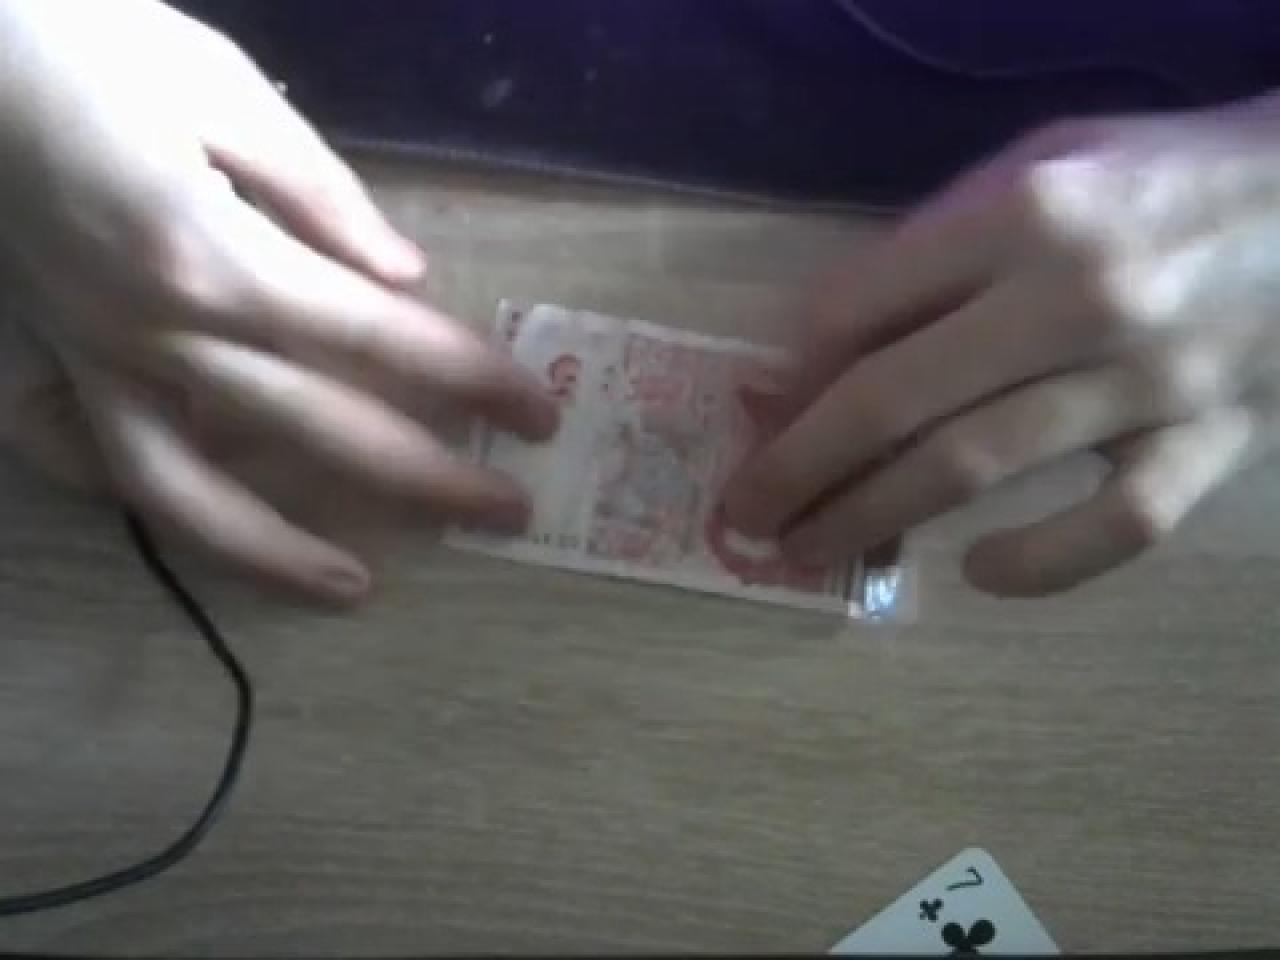5leva: (451, 302, 848, 611)
